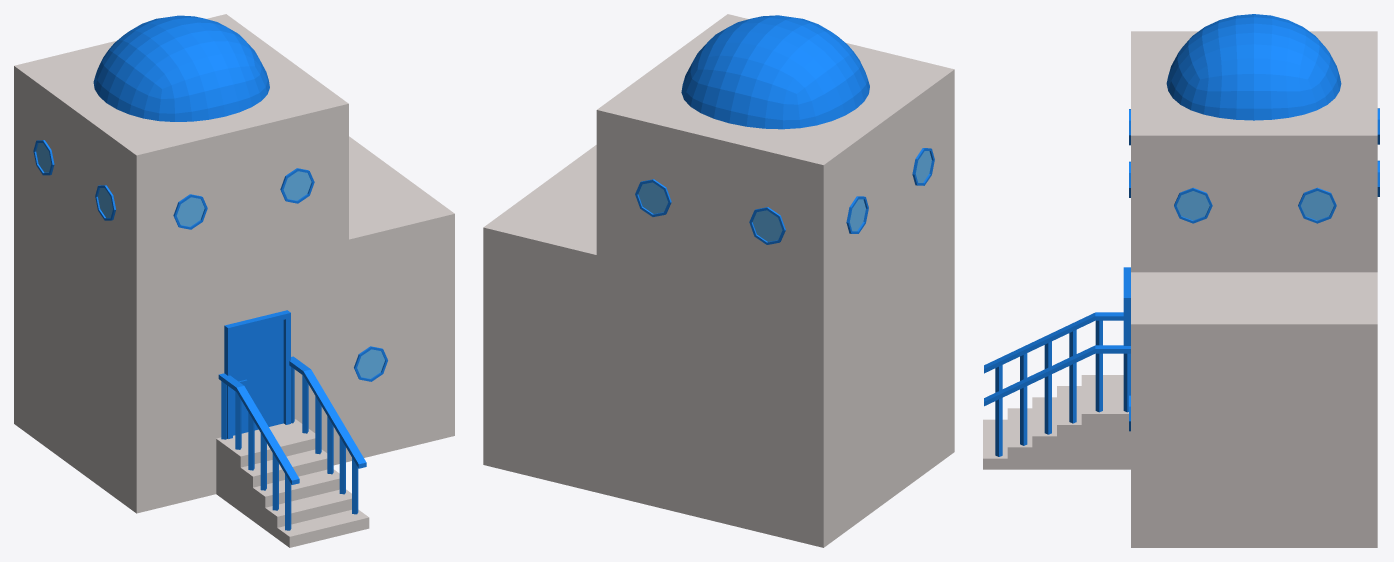
File: casa.fbx
3 views of the same model, side by side, from view 1: azimuth 30°, elevation 25°; view 2: azimuth 150°, elevation 25°; view 3: azimuth 270°, elevation 25° (orthographic). The views are drawn at different scales.
Visible parts, largest first — view 1: primo piano.001, secondo piano.001, cupola.001, scale.001, porta.001, ringhiera.002, imbotto_Porta.001, ringhiera.003, corrimano.002, corrimano.003, finestra.009, finestra.010 (+1 smaller); view 2: primo piano.001, secondo piano.001, cupola.001, finestra.013, finestra.014; view 3: primo piano.001, secondo piano.001, cupola.001, scale.001, ringhiera.003, corrimano.003, corrimano.002, ringhiera.002, finestra.012, finestra.011, imbotto_Porta.001.
Boxes of the visible parts, x1=… form: primo piano.001: x1=14, y1=136, x2=454, y2=513; secondo piano.001: x1=14, y1=14, x2=348, y2=291; cupola.001: x1=93, y1=15, x2=269, y2=121; scale.001: x1=216, y1=419, x2=369, y2=547; porta.001: x1=233, y1=320, x2=283, y2=435; ringhiera.002: x1=221, y1=381, x2=291, y2=530; imbotto_Porta.001: x1=224, y1=310, x2=290, y2=438; ringhiera.003: x1=291, y1=367, x2=358, y2=514; corrimano.002: x1=218, y1=373, x2=299, y2=484; corrimano.003: x1=289, y1=356, x2=366, y2=468; finestra.009: x1=283, y1=171, x2=311, y2=200; finestra.010: x1=176, y1=197, x2=204, y2=226; primo piano.001: x1=483, y1=145, x2=954, y2=547; secondo piano.001: x1=596, y1=14, x2=954, y2=310; cupola.001: x1=681, y1=15, x2=869, y2=129; finestra.013: x1=752, y1=210, x2=782, y2=241; finestra.014: x1=638, y1=182, x2=668, y2=213; primo piano.001: x1=1131, y1=272, x2=1377, y2=547; secondo piano.001: x1=1131, y1=31, x2=1377, y2=272; cupola.001: x1=1166, y1=14, x2=1341, y2=120; scale.001: x1=983, y1=375, x2=1130, y2=469; ringhiera.003: x1=995, y1=353, x2=1130, y2=456; corrimano.003: x1=984, y1=345, x2=1130, y2=406; corrimano.002: x1=984, y1=312, x2=1123, y2=373; ringhiera.002: x1=995, y1=320, x2=1102, y2=392; finestra.012: x1=1176, y1=191, x2=1209, y2=220; finestra.011: x1=1301, y1=191, x2=1333, y2=220; imbotto_Porta.001: x1=1123, y1=267, x2=1130, y2=345.
Bounding box in the file's own units: 302 × 376 × 322.
